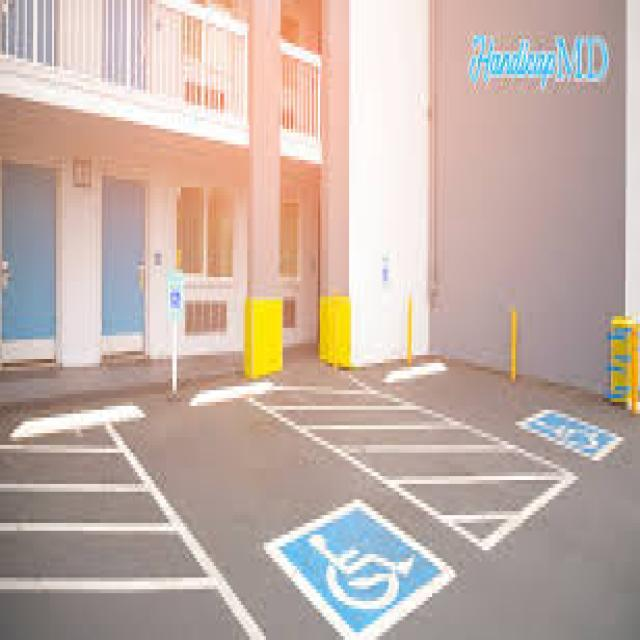symbol_of_access: (310, 532, 414, 608), (535, 417, 600, 452)
